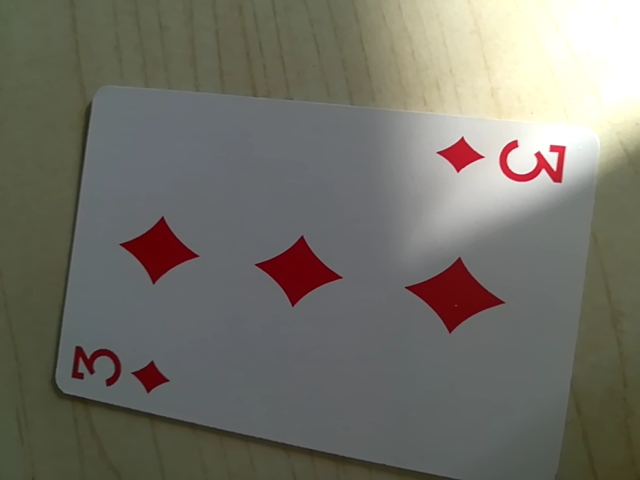fk 3: (424, 128, 570, 193), (60, 334, 171, 405)
